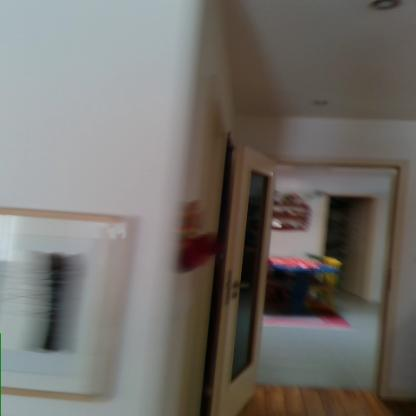open: (208, 131, 416, 400)
